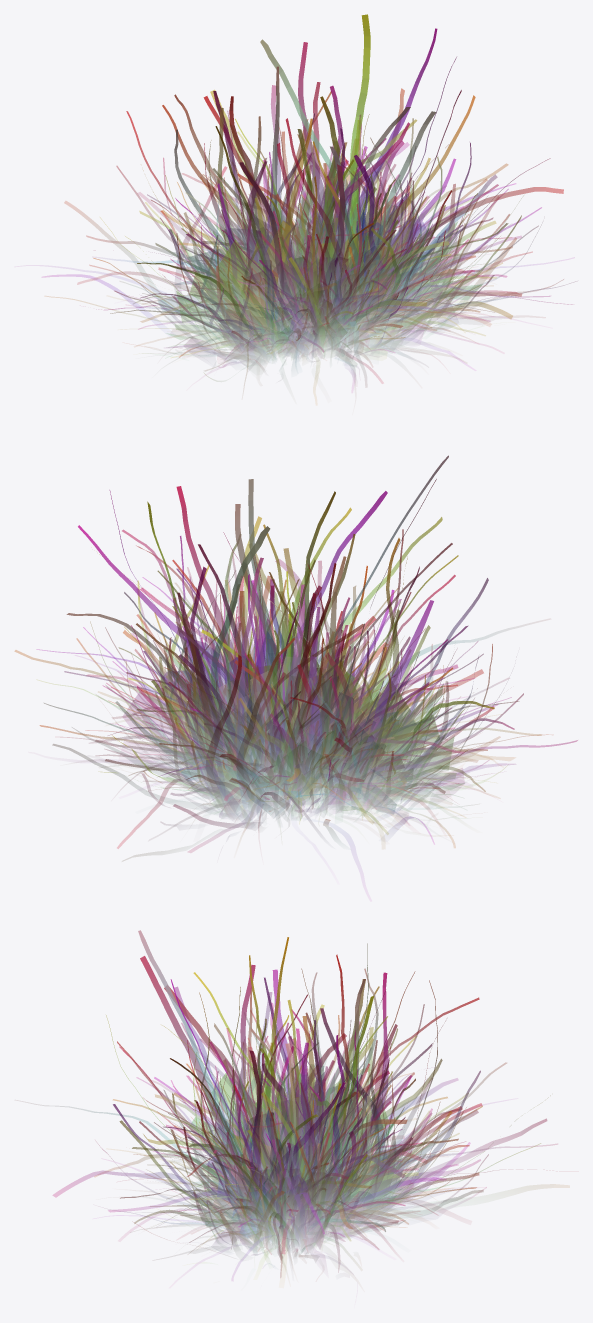
The model's file is vczndjqja_tier_1.gltf.
3 views of the same model, one above another, from view 1: azimuth 30°, elevation 25°; view 2: azimuth 150°, elevation 25°; view 3: azimuth 270°, elevation 25° (orthographic). The views are drawn at different scales.
Parts seen in each view (by area): view 1: SM_vczndjqja_VarA, SM_vczndjqja_VarG, SM_vczndjqja_VarD, SM_vczndjqja_VarE, SM_vczndjqja_VarF, SM_vczndjqja_VarH; view 2: SM_vczndjqja_VarA, SM_vczndjqja_VarG, SM_vczndjqja_VarD, SM_vczndjqja_VarE, SM_vczndjqja_VarF, SM_vczndjqja_VarH, SM_vczndjqja_VarB; view 3: SM_vczndjqja_VarA, SM_vczndjqja_VarG, SM_vczndjqja_VarD, SM_vczndjqja_VarE, SM_vczndjqja_VarF, SM_vczndjqja_VarH.
Part boxes in pixels (x1,y1,x2,y2): SM_vczndjqja_VarA: (42,14,574,387); SM_vczndjqja_VarG: (142,42,532,369); SM_vczndjqja_VarD: (46,90,576,357); SM_vczndjqja_VarE: (151,154,517,383); SM_vczndjqja_VarF: (110,169,521,385); SM_vczndjqja_VarH: (202,39,415,348); SM_vczndjqja_VarA: (14,479,577,858); SM_vczndjqja_VarG: (53,491,514,860); SM_vczndjqja_VarD: (40,507,547,852); SM_vczndjqja_VarE: (92,585,498,830); SM_vczndjqja_VarF: (44,558,514,834); SM_vczndjqja_VarH: (165,455,474,761); SM_vczndjqja_VarB: (246,669,431,803); SM_vczndjqja_VarA: (15,956,506,1280); SM_vczndjqja_VarG: (164,954,569,1256); SM_vczndjqja_VarD: (108,937,557,1253); SM_vczndjqja_VarE: (113,1028,482,1268); SM_vczndjqja_VarF: (120,1015,458,1276); SM_vczndjqja_VarH: (138,930,368,1230).
Size of what is drawn, in the model's own units: 1.58 by 0.9098 by 1.66.
